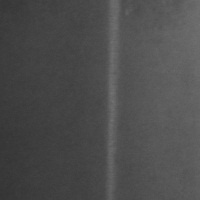scratches: (104, 11, 121, 186)
